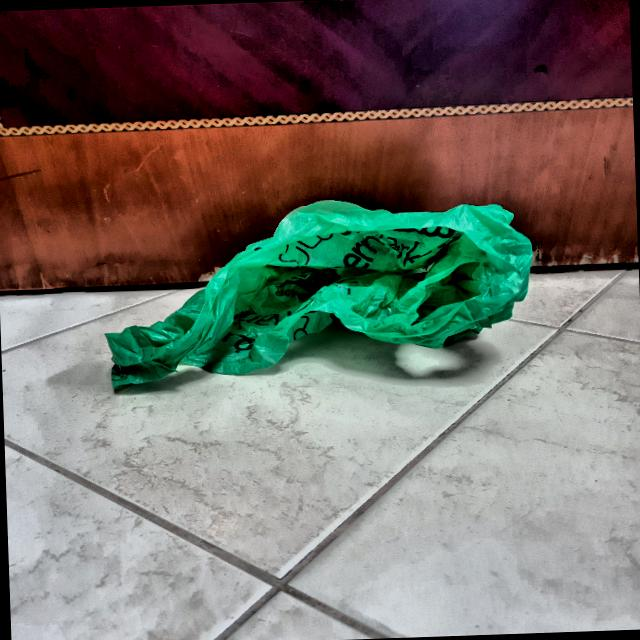plastic bag: (95, 172, 550, 442)
